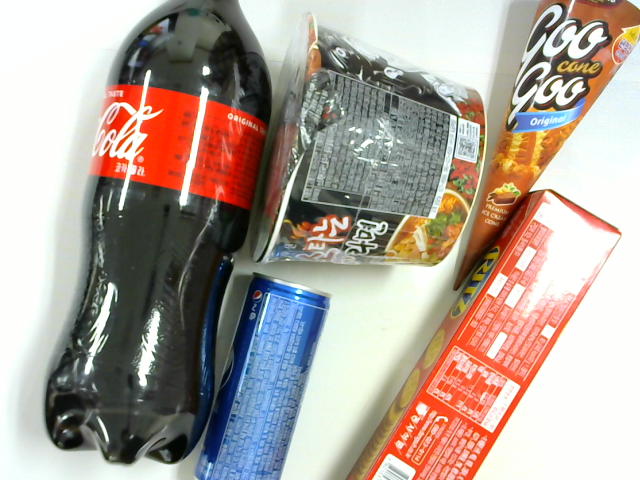Coca_Cola_1.5L: (43, 1, 272, 467)
GooGoo_Cone_CVS: (452, 1, 640, 284)
HeJangsock: (251, 12, 488, 268)
Pepsi_Cola_Can_250ml: (193, 275, 335, 480)
Ritz_Cracker: (346, 187, 624, 480)
